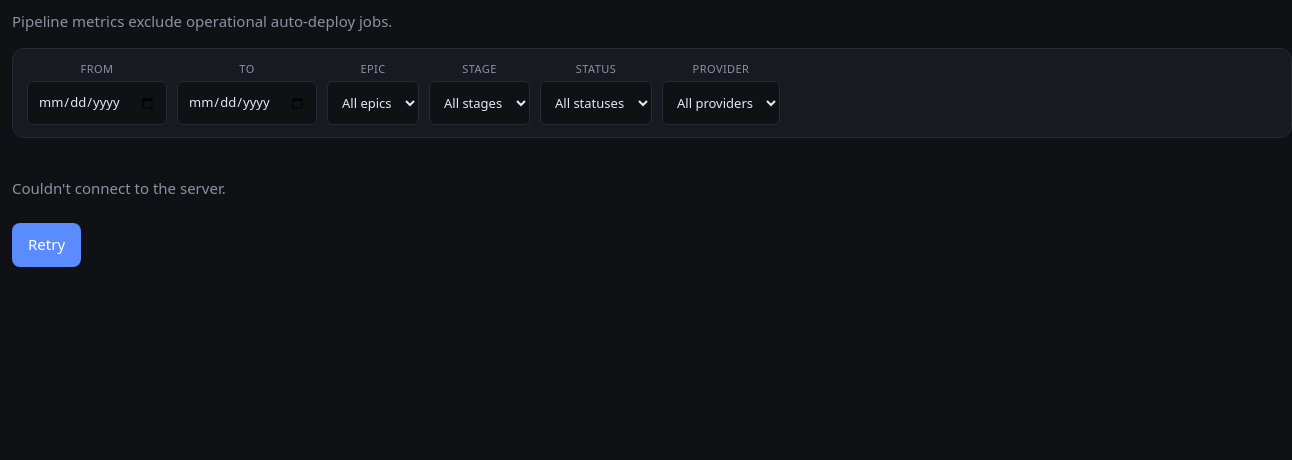
Test case: PerformanceTab three-state rendering › shows an error message with a working Retry button on a generic fetch failure
The width and height of the screenshot is (1292, 460).
Click the button "Retry": (47, 244) 12,222 -> 81,266
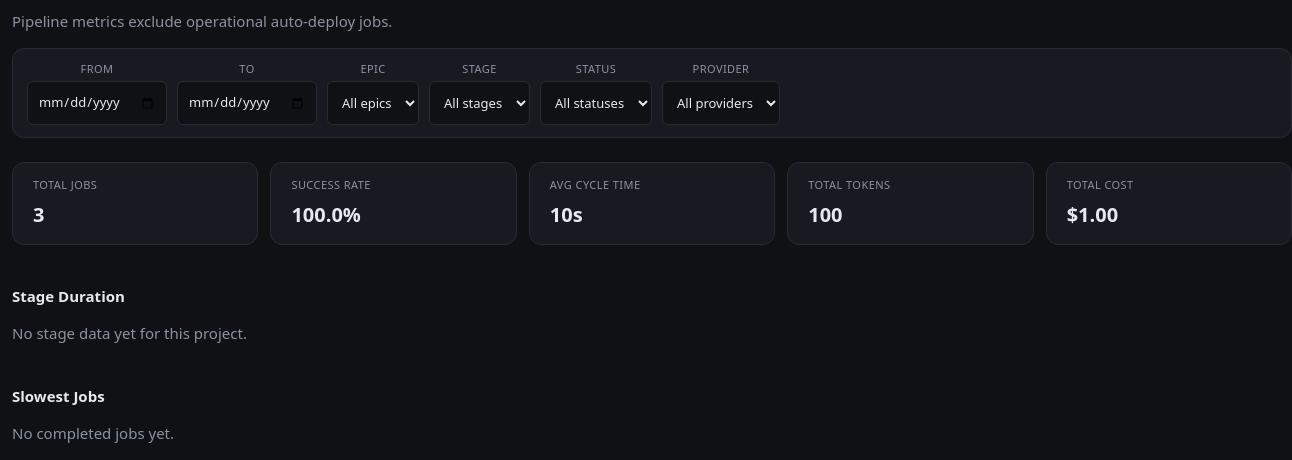
Check: the text "Total Jobs" is shown, box 33,177 -> 97,192
